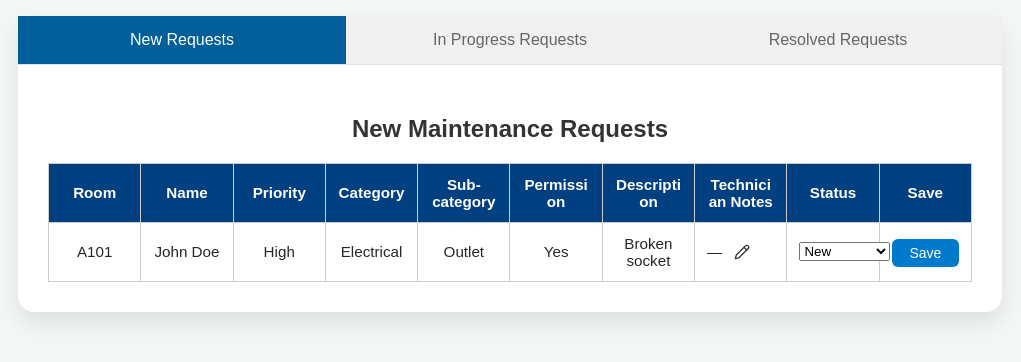
Test: AdminMaintenancePanel › handles save success and updates state
Expected: the text "John Doe" is shown, [141,222,233,281]
Note: Update dropdown
Select "Resolved" in the dropdown showing "New". click: (845, 252)
box: [799,242,890,261]
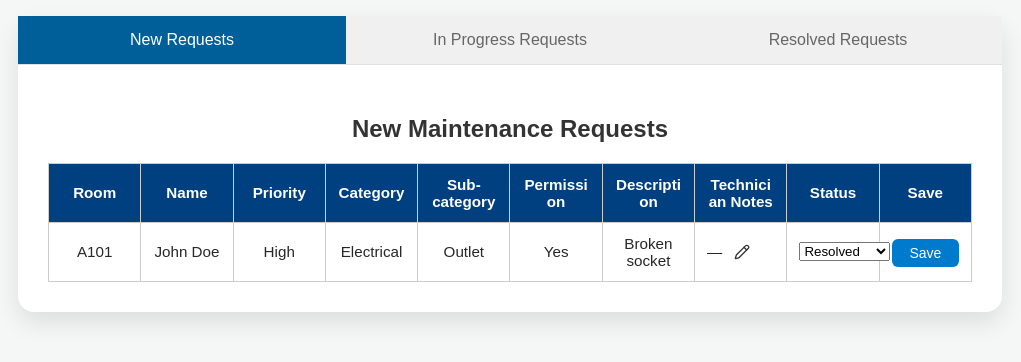
Click the button "Save". click: (925, 253)
box: [892,239,959,267]
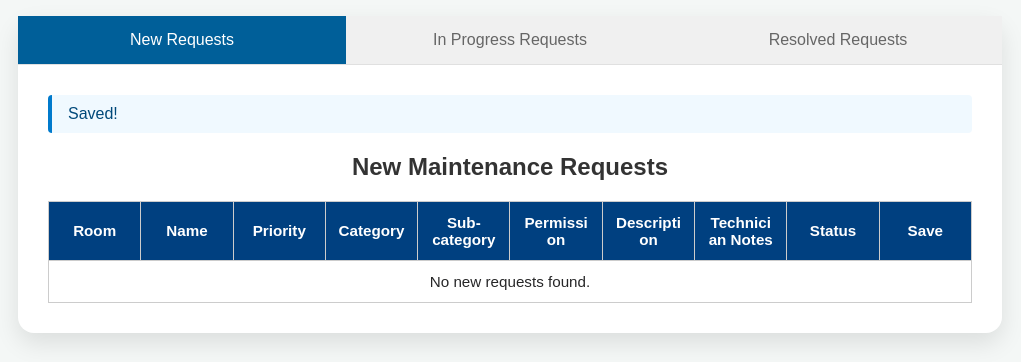
Expected: the text "Saved!" is shown, [48,95,972,133]
